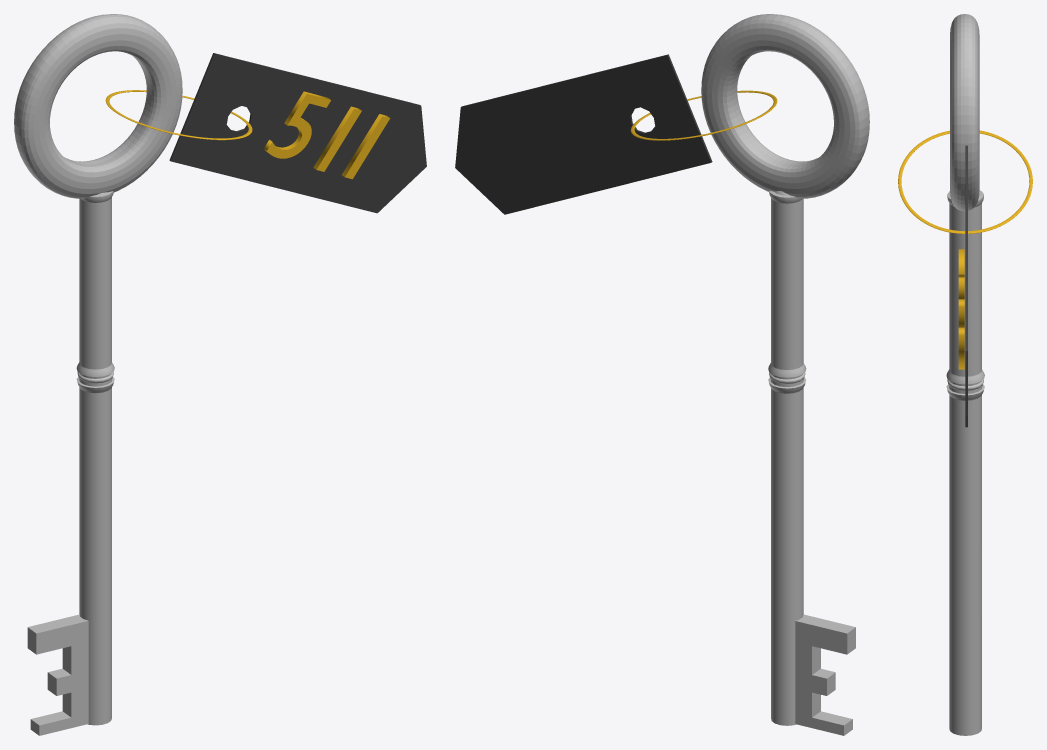
Rendered from key511.fbx.
3 renders of one model, left to right at view 1: azimuth 30°, elevation 25°; view 2: azimuth 150°, elevation 25°; view 3: azimuth 270°, elevation 25°, orthographic.
Parts seen in each view (by area): view 1: key511; view 2: key511; view 3: key511.
Part boxes in pixels (x1=…): key511: x1=14, y1=14, x2=426, y2=735; key511: x1=455, y1=14, x2=869, y2=735; key511: x1=898, y1=14, x2=1032, y2=735.
Bounding box in the file's own units: 8.68 × 14.18 × 2.45.
